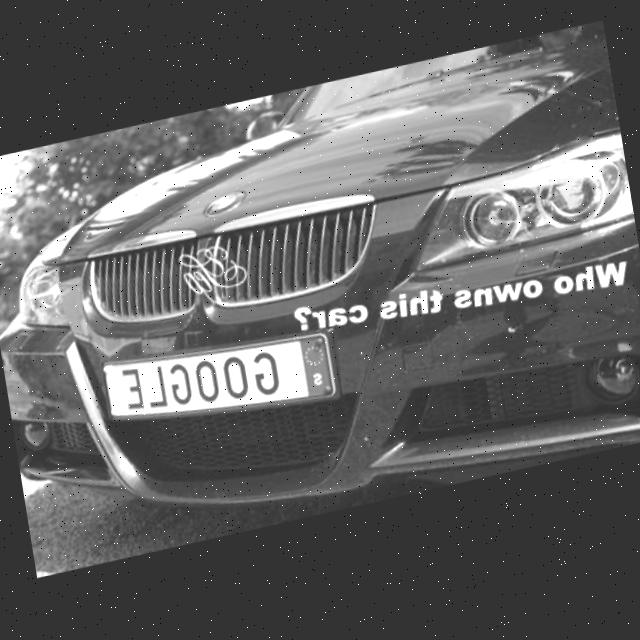license-plates: (104, 335, 333, 418)
